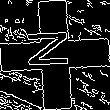N_E: (29, 34, 81, 76)
